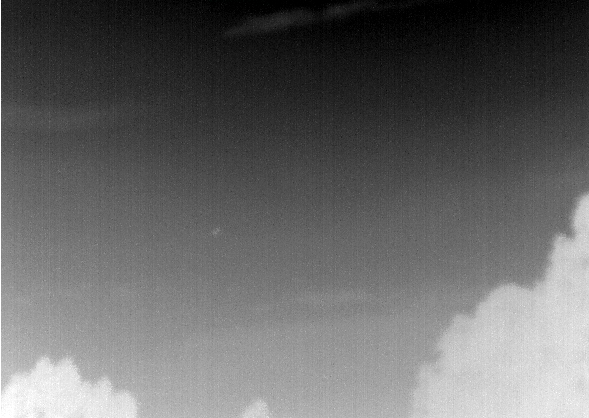dim target: (210, 226, 221, 234)
